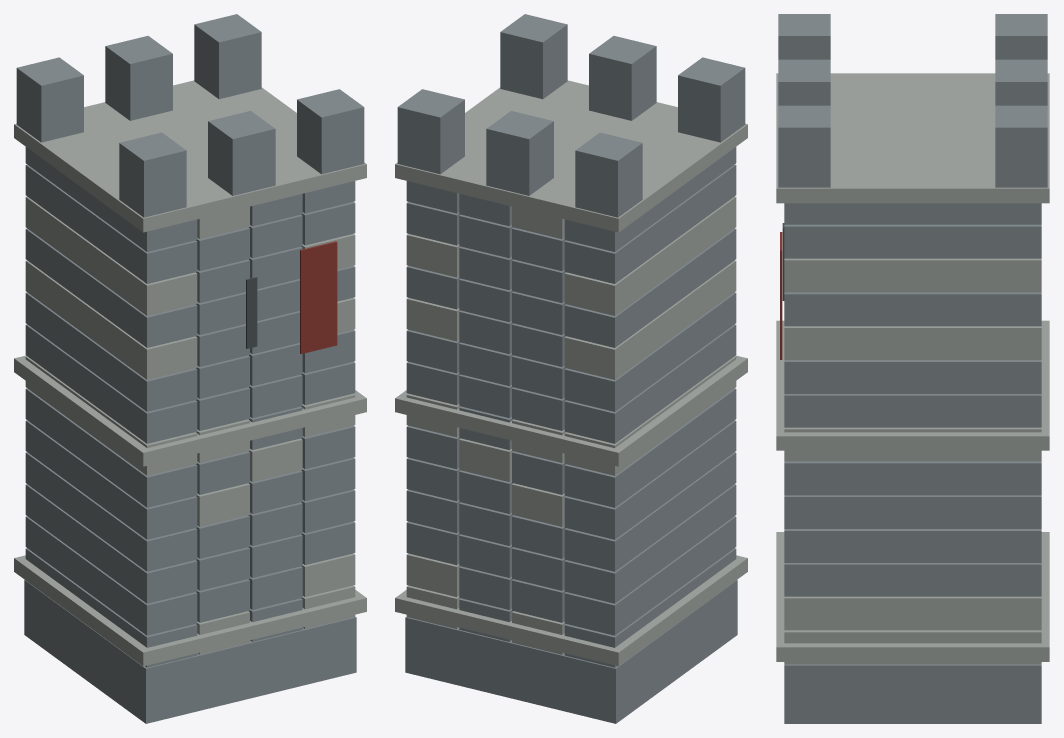
The model's file is watchtower.glb.
3 views of the same model, side by side, from view 1: azimuth 30°, elevation 25°; view 2: azimuth 150°, elevation 25°; view 3: azimuth 270°, elevation 25° (orthographic). The views are drawn at different scales.
Visible parts, largest first — view 1: watchtower; view 2: watchtower; view 3: watchtower.
Boxes of the visible parts, x1=… form: watchtower: x1=14, y1=14, x2=366, y2=723; watchtower: x1=395, y1=14, x2=747, y2=723; watchtower: x1=776, y1=14, x2=1049, y2=723.
Size of the model in its own units: 3.4 by 8.23 by 3.4.
